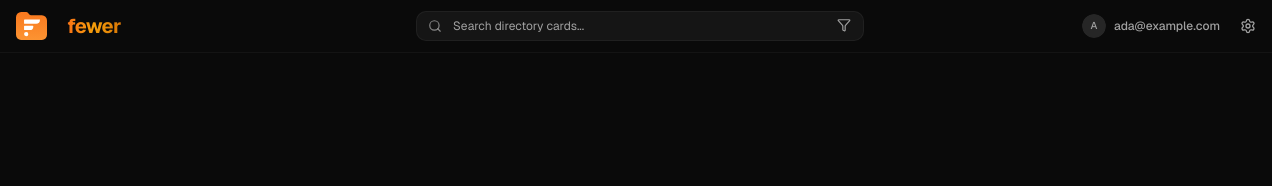
it: GlobalNavbar account dropdown › dropdown shows account row, saved graphs, and sign out
Click the button with aria-label "Account menu".
click(1153, 26)  # box [1078,10,1228,42]
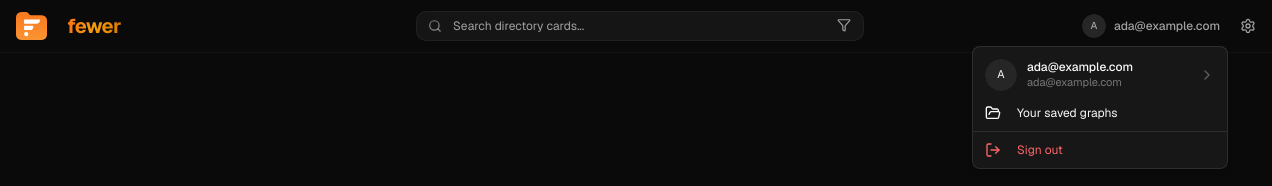
Result: the menu item "Your saved graphs" is shown at [985,105,1118,121]
Result: the menu item "Sign out" is shown at [985,142,1063,158]
